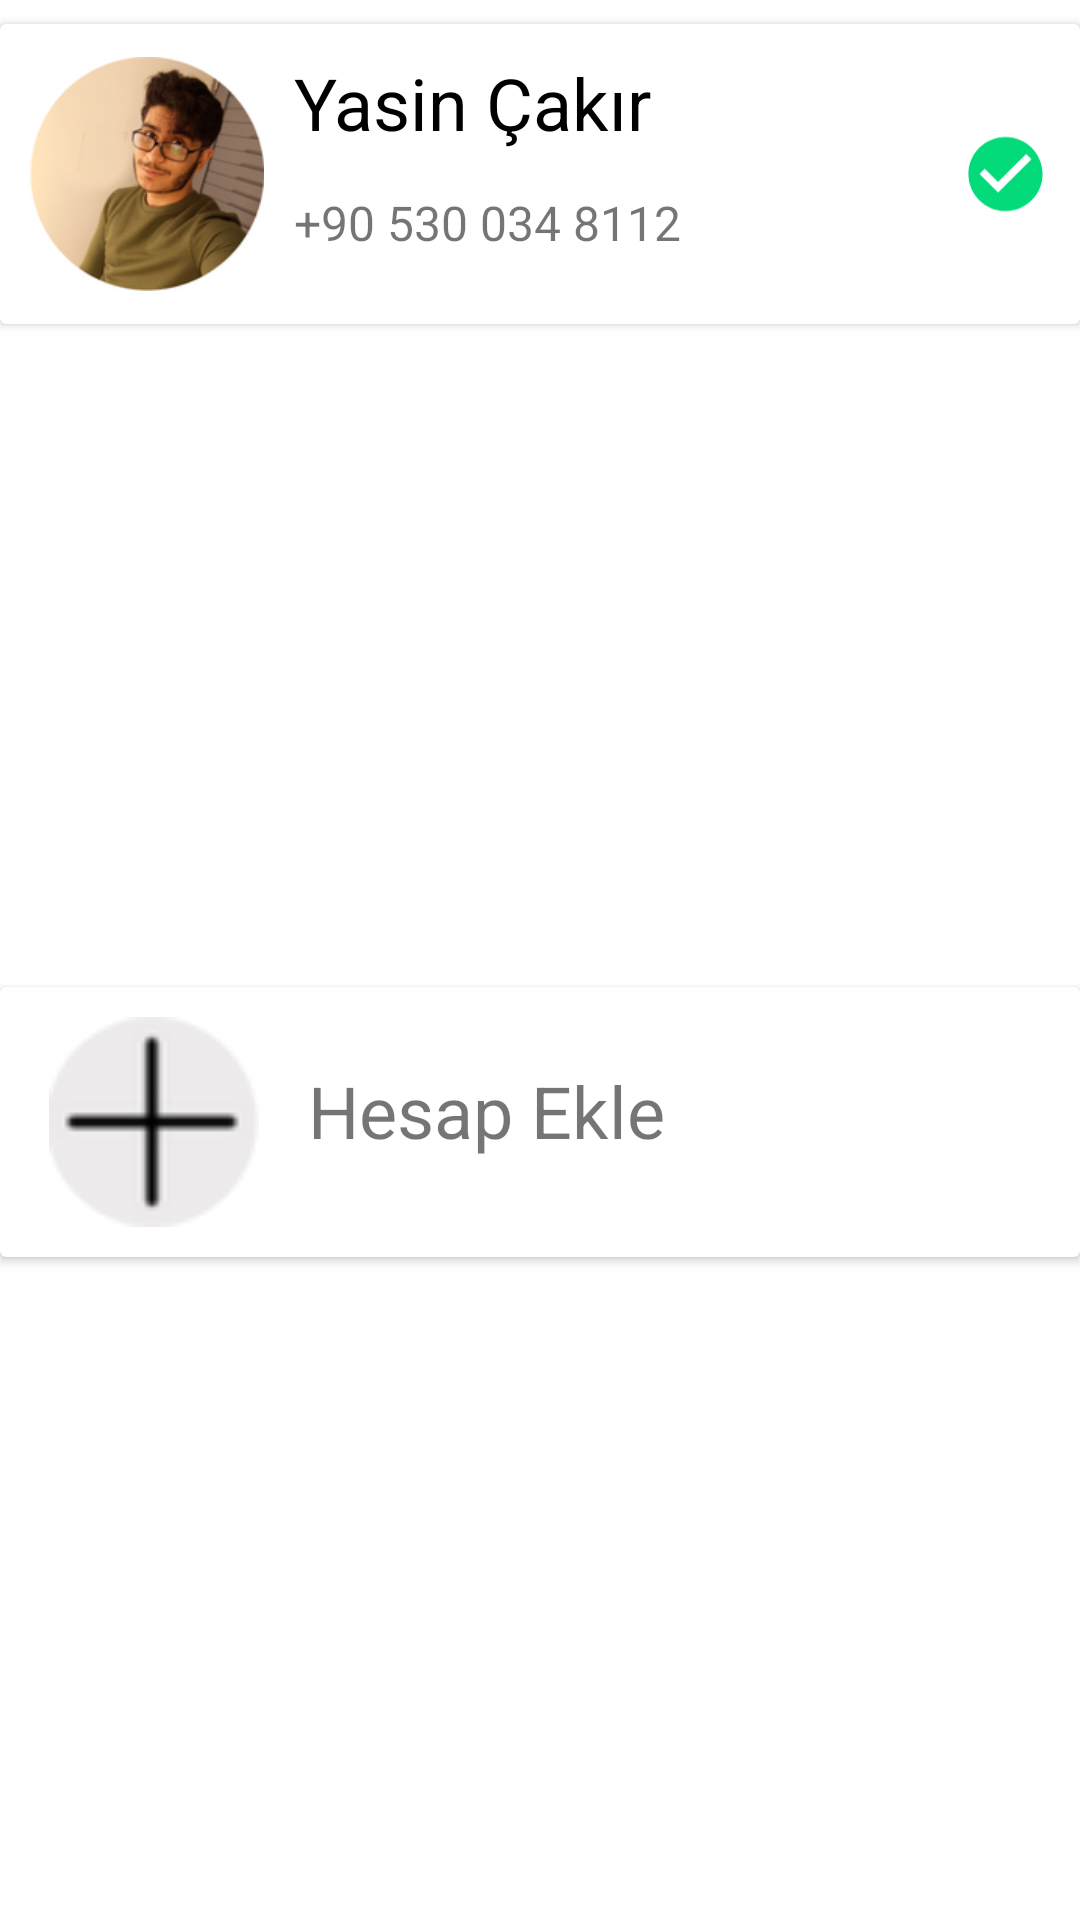

Screen size 1080 × 1920. Icon name, then its center in pixels as point (x, y):
arti: point (154, 1122)
tik: point (1005, 174)
